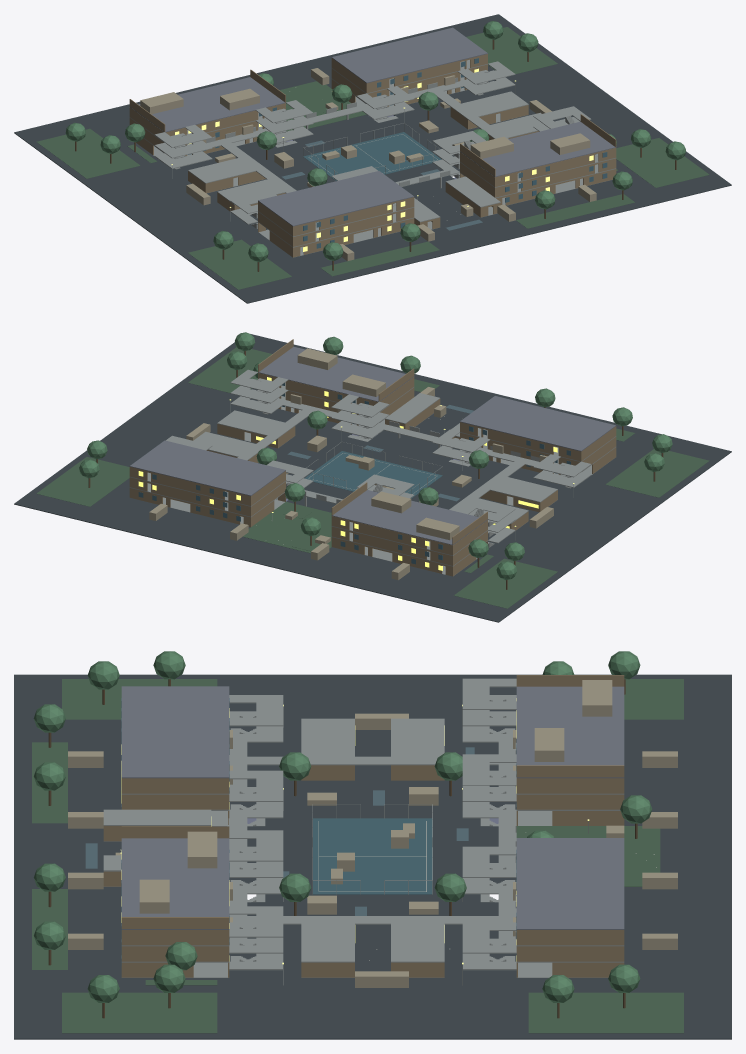
Rendered from heron-reach-32-massing.glb.
3 views of the same model, one above another, from view 1: azimuth 30°, elevation 25°; view 2: azimuth 150°, elevation 25°; view 3: azimuth 270°, elevation 25° (orthographic). The views are drawn at different scales.
Visible parts, largest first — view 1: 144 × 120 m site / B1 core openings.002, 144 × 120 m site / B1 core openings.004, 144 × 120 m site / B1 core openings.018, BIRCH HOUSE CLOSED non-playable roof, ASH HOUSE CLOSED non-playable roof, 144 × 120 m site / B1 core openings.020, 144 × 120 m site / B1 core openings.012, 144 × 120 m site / B1 core openings, SE-R, NW-R, court, P3 planted soil (+31 smaller); view 2: 144 × 120 m site / B1 core openings.002, 144 × 120 m site / B1 core openings, 144 × 120 m site / B1 core openings.016, 144 × 120 m site / B1 core openings.018, ASH HOUSE CLOSED non-playable roof, BIRCH HOUSE CLOSED non-playable roof, 144 × 120 m site / B1 core openings.004, NW-R, SE-R, court, P1 planted soil, P3 planted soil (+29 smaller); view 3: 144 × 120 m site / B1 core openings.018, 144 × 120 m site / B1 core openings.002, 144 × 120 m site / B1 core openings.016, 144 × 120 m site / B1 core openings, 144 × 120 m site / B1 core openings.020, BIRCH HOUSE CLOSED non-playable roof, ASH HOUSE CLOSED non-playable roof, 144 × 120 m site / B1 core openings.004, court, NW-R, SE-R, P2 planted soil (+73 smaller).
Boxes of the visible parts, left/top/right/bottom form: 144 × 120 m site / B1 core openings.002: left=95, top=148, right=325, bottom=243; 144 × 120 m site / B1 core openings.004: left=177, top=232, right=428, bottom=303; 144 × 120 m site / B1 core openings.018: left=399, top=74, right=649, bottom=156; BIRCH HOUSE CLOSED non-playable roof: left=258, top=171, right=414, bottom=226; ASH HOUSE CLOSED non-playable roof: left=331, top=27, right=487, bottom=83; 144 × 120 m site / B1 core openings.020: left=515, top=133, right=731, bottom=229; 144 × 120 m site / B1 core openings.012: left=412, top=186, right=529, bottom=254; 144 × 120 m site / B1 core openings: left=14, top=88, right=197, bottom=183; SE-R: left=460, top=121, right=616, bottom=177; NW-R: left=129, top=77, right=285, bottom=132; court: left=303, top=132, right=441, bottom=180; P3 planted soil: left=188, top=239, right=291, bottom=289; 144 × 120 m site / B1 core openings.002: left=436, top=466, right=650, bottom=562; 144 × 120 m site / B1 core openings: left=317, top=551, right=568, bottom=622; 144 × 120 m site / B1 core openings.016: left=14, top=452, right=230, bottom=548; 144 × 120 m site / B1 core openings.018: left=100, top=393, right=346, bottom=475; ASH HOUSE CLOSED non-playable roof: left=129, top=440, right=285, bottom=496; BIRCH HOUSE CLOSED non-playable roof: left=460, top=396, right=616, bottom=451; 144 × 120 m site / B1 core openings.004: left=548, top=407, right=731, bottom=502; NW-R: left=331, top=490, right=487, bottom=545; SE-R: left=258, top=346, right=414, bottom=401; court: left=304, top=451, right=442, bottom=498; P1 planted soil: left=454, top=558, right=557, bottom=608; P3 planted soil: left=605, top=449, right=709, bottom=497; 144 × 120 m site / B1 core openings.018: left=265, top=902, right=480, bottom=1039; 144 × 120 m site / B1 core openings.002: left=265, top=674, right=480, bottom=810; 144 × 120 m site / B1 core openings.016: left=516, top=902, right=731, bottom=1039; 144 × 120 m site / B1 core openings: left=517, top=674, right=731, bottom=810; 144 × 120 m site / B1 core openings.020: left=14, top=902, right=229, bottom=1039; BIRCH HOUSE CLOSED non-playable roof: left=121, top=686, right=229, bottom=778; ASH HOUSE CLOSED non-playable roof: left=516, top=838, right=624, bottom=929; 144 × 120 m site / B1 core openings.004: left=14, top=674, right=229, bottom=810; court: left=313, top=818, right=432, bottom=894; NW-R: left=516, top=686, right=624, bottom=778; SE-R: left=121, top=838, right=229, bottom=929; P2 planted soil: left=528, top=992, right=683, bottom=1033.
Bounding box in the file's own units: 144 × 14.28 × 120.
